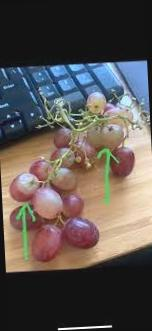Grape Rotten: (2, 87, 140, 262)
